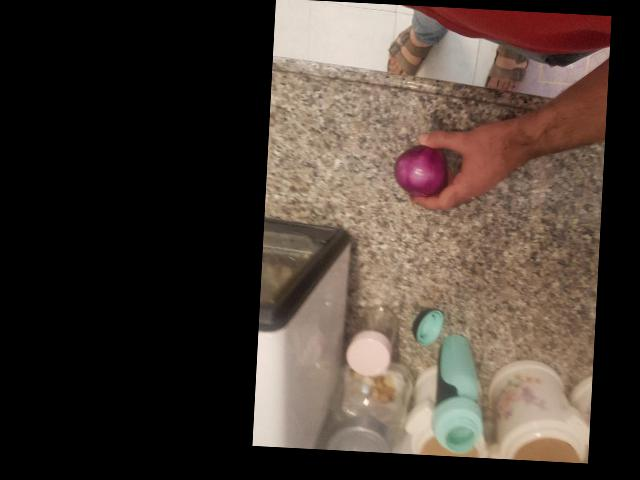onion: (279, 270, 339, 320)
